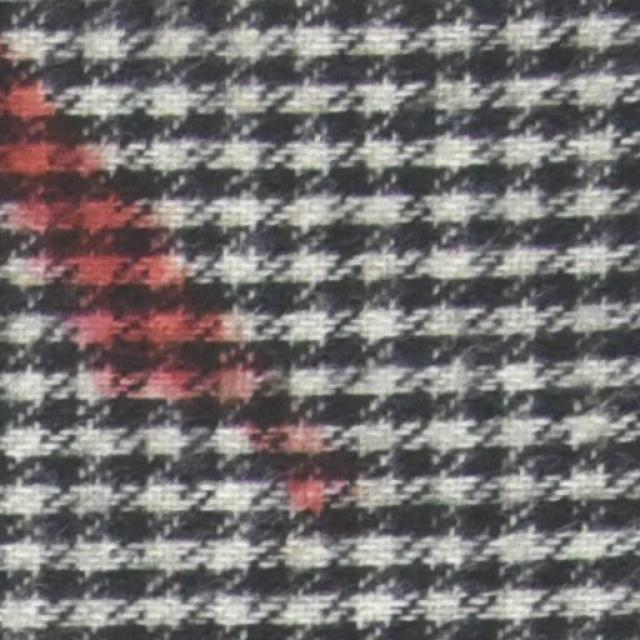Stain: (0, 46, 335, 529)
